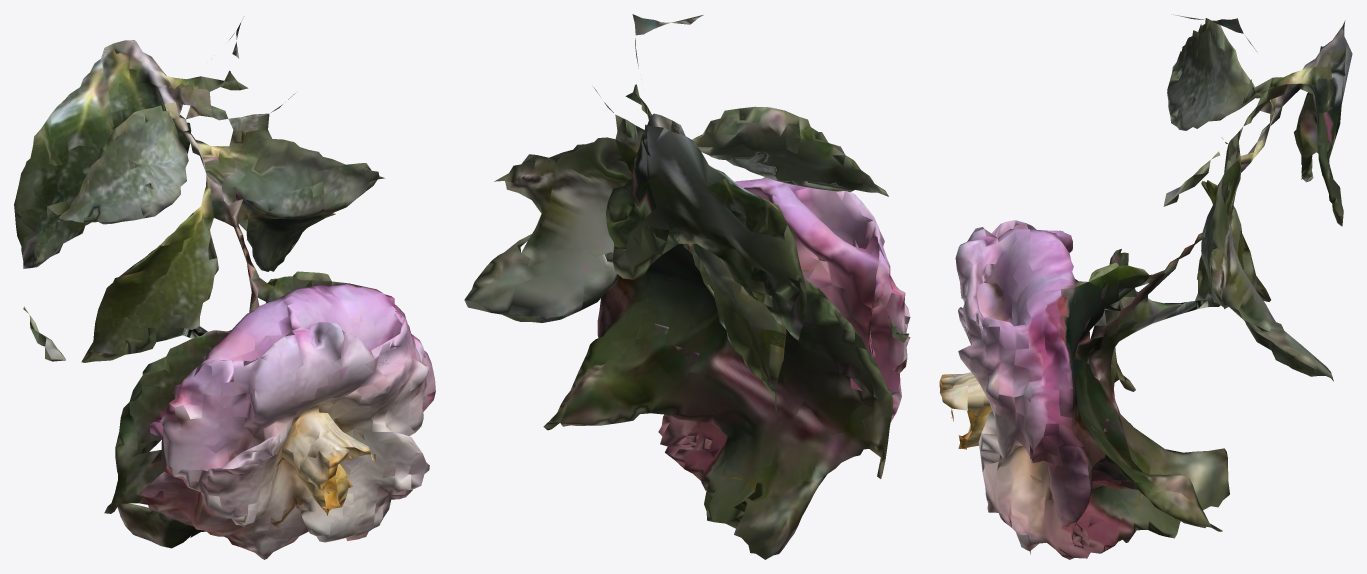
3 views of the same model, side by side, from view 1: azimuth 30°, elevation 25°; view 2: azimuth 150°, elevation 25°; view 3: azimuth 270°, elevation 25° (orthographic). The views are drawn at different scales.
Parts seen in each view (by area): view 1: e4fb7c3e; view 2: e4fb7c3e; view 3: e4fb7c3e.
Boxes of the visible parts, left/top/right/bottom form: e4fb7c3e: left=14, top=22, right=435, bottom=559; e4fb7c3e: left=464, top=14, right=910, bottom=559; e4fb7c3e: left=939, top=14, right=1352, bottom=559.
Bounding box in the file's own units: 0.099 × 0.1257 × 0.0863.
Materials: 1 (1 with a texture image).
